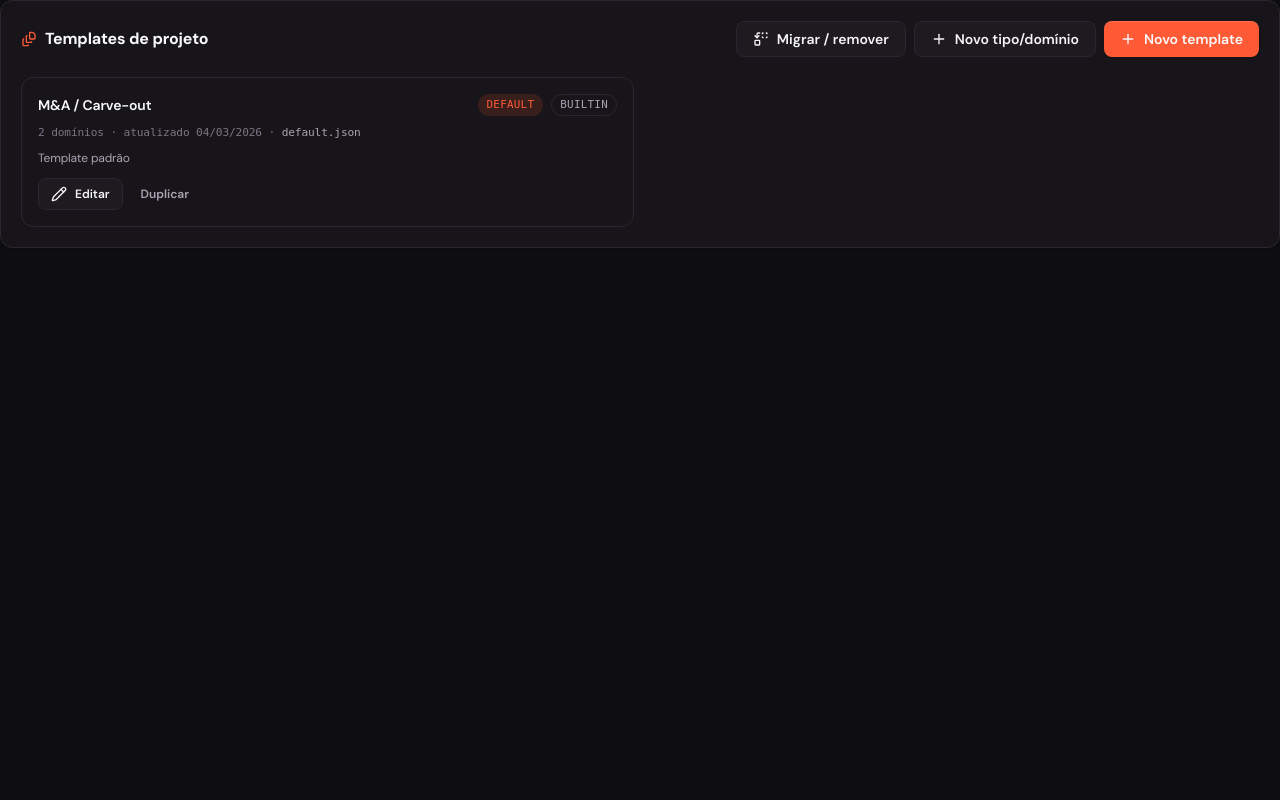
Test case: TemplateEditorView › opens editor modal with the simplified operator surface
Expected: the text "M&A / Carve-out" is shown, [38,96,151,114]
Click the button "Editar": (80, 194) [38,178,123,210]
(page scrolled)
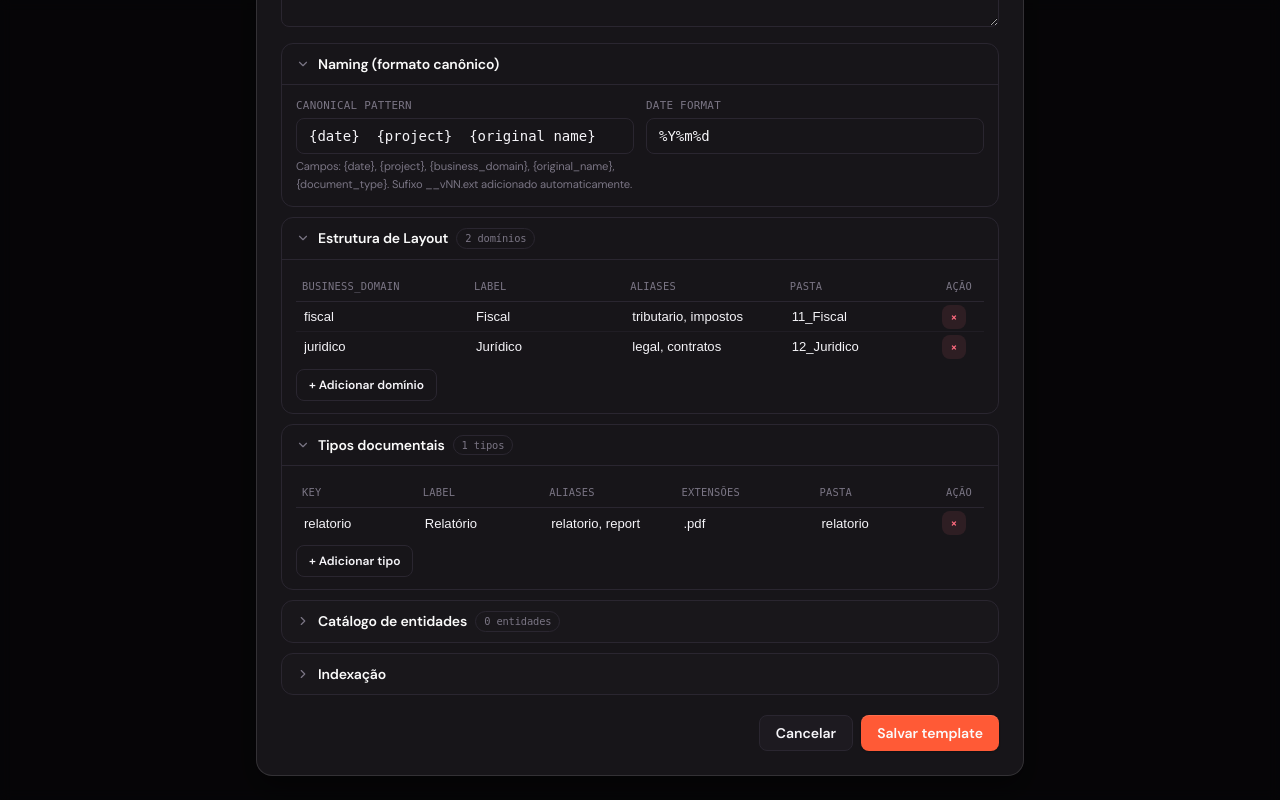
Now the dialog labelled "Editar template" is shown
Now the heading "Naming (formato canônico)" is shown, box [296,55,499,73]
Now the heading "Estrutura de Layout 2 domínios" is shown, box [296,228,535,249]
